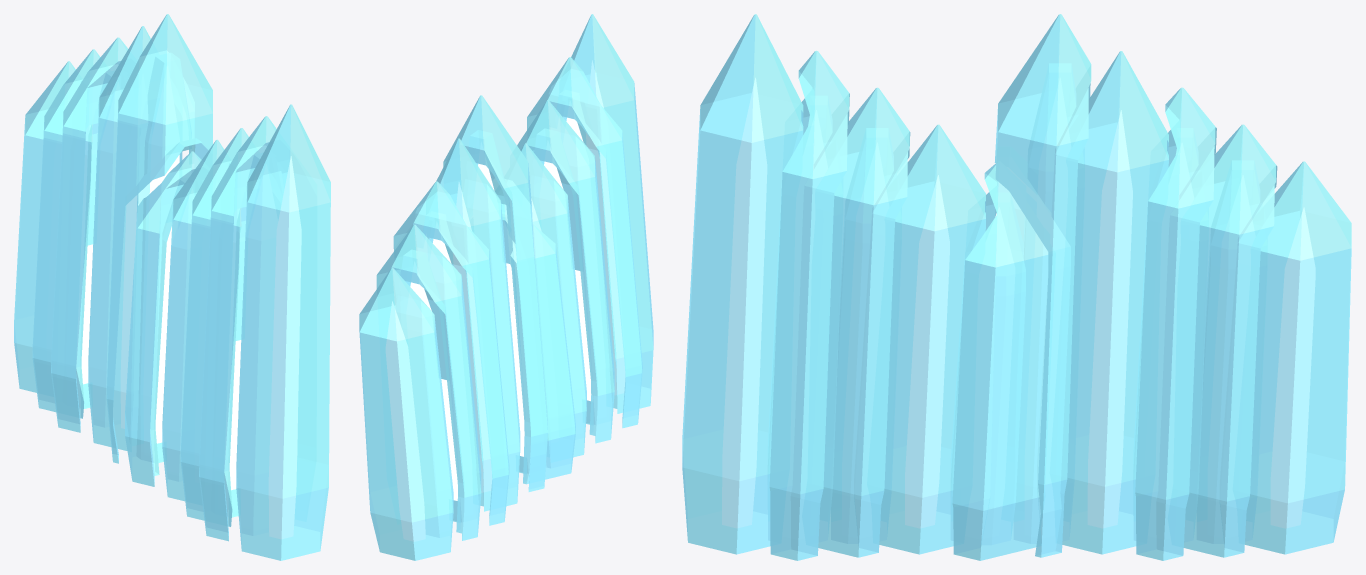
Rendered from h18_crystal_bank_ne_deco.fbx.
3 views of the same model, side by side, from view 1: azimuth 30°, elevation 25°; view 2: azimuth 150°, elevation 25°; view 3: azimuth 270°, elevation 25° (orthographic). The views are drawn at different scales.
Parts seen in each view (by area): view 1: h18_crystal_bank_ne_deco__Ice, h18_crystal_bank_ne_deco__IceCore; view 2: h18_crystal_bank_ne_deco__Ice, h18_crystal_bank_ne_deco__IceCore; view 3: h18_crystal_bank_ne_deco__Ice, h18_crystal_bank_ne_deco__IceCore.
Part boxes in pixels (x1=…): h18_crystal_bank_ne_deco__Ice: x1=14, y1=14, x2=330, y2=560; h18_crystal_bank_ne_deco__IceCore: x1=81, y1=154, x2=301, y2=538; h18_crystal_bank_ne_deco__Ice: x1=359, y1=14, x2=653, y2=560; h18_crystal_bank_ne_deco__IceCore: x1=386, y1=61, x2=624, y2=541; h18_crystal_bank_ne_deco__Ice: x1=682, y1=14, x2=1351, y2=560; h18_crystal_bank_ne_deco__IceCore: x1=722, y1=78, x2=1315, y2=528.
Size of the model in its own units: 1.38 by 4.58 by 5.27.
